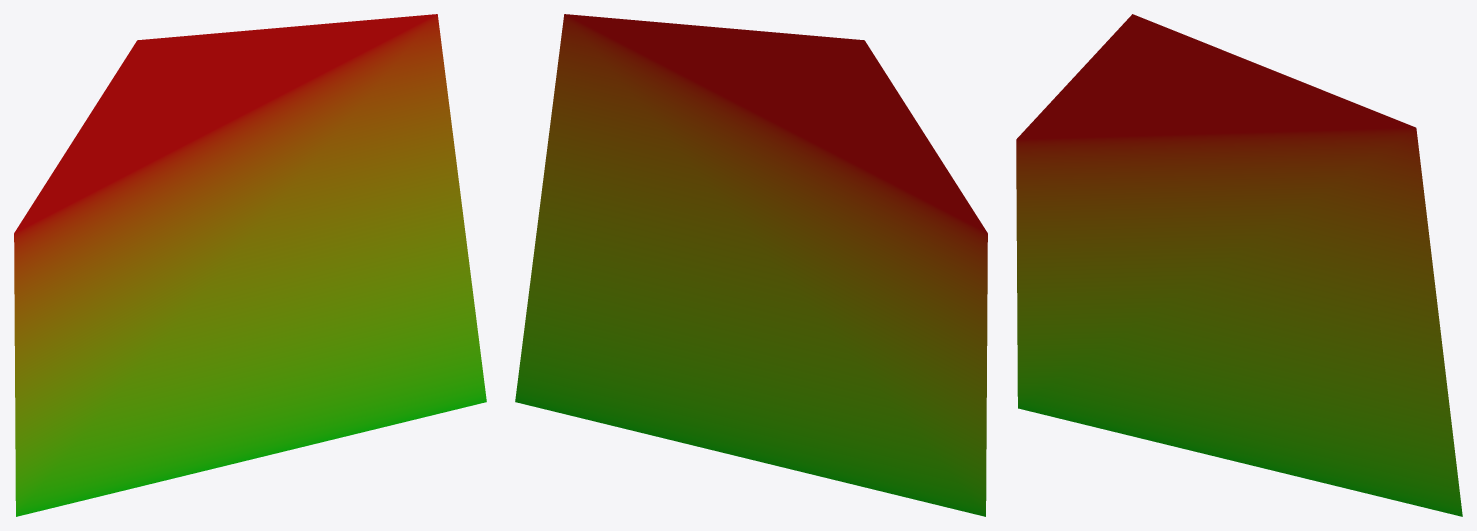
File: Tundra Grass_LOD7_Var12_wk2oaeyqx.fbx
3 views of the same model, side by side, from view 1: azimuth 30°, elevation 25°; view 2: azimuth 150°, elevation 25°; view 3: azimuth 330°, elevation 25° (orthographic). The views are drawn at different scales.
Visible parts, largest first — view 1: _h1l6_Var12_LOD7; view 2: _h1l6_Var12_LOD7; view 3: _h1l6_Var12_LOD7.
Part boxes in pixels (x1=…): _h1l6_Var12_LOD7: x1=14, y1=14, x2=486, y2=516; _h1l6_Var12_LOD7: x1=515, y1=14, x2=987, y2=516; _h1l6_Var12_LOD7: x1=1016, y1=14, x2=1462, y2=516.
Bounding box in the file's own units: 35.02 × 31.65 × 1.38e-06.
